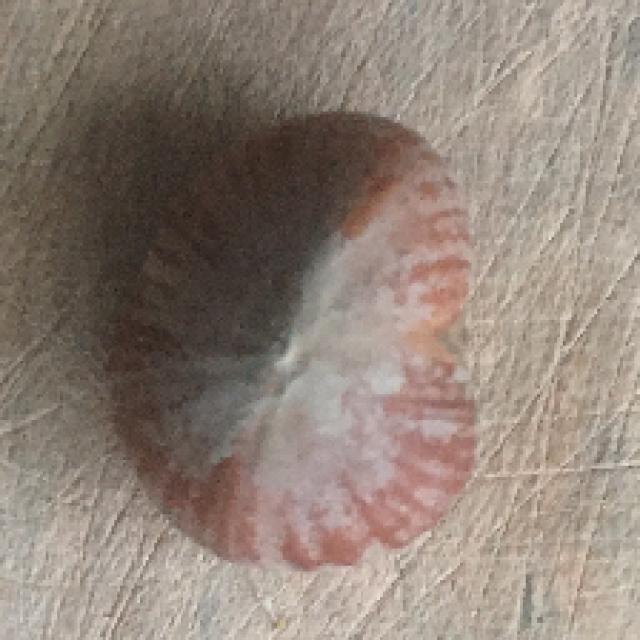qualityHazelnut: (110, 101, 500, 570)
